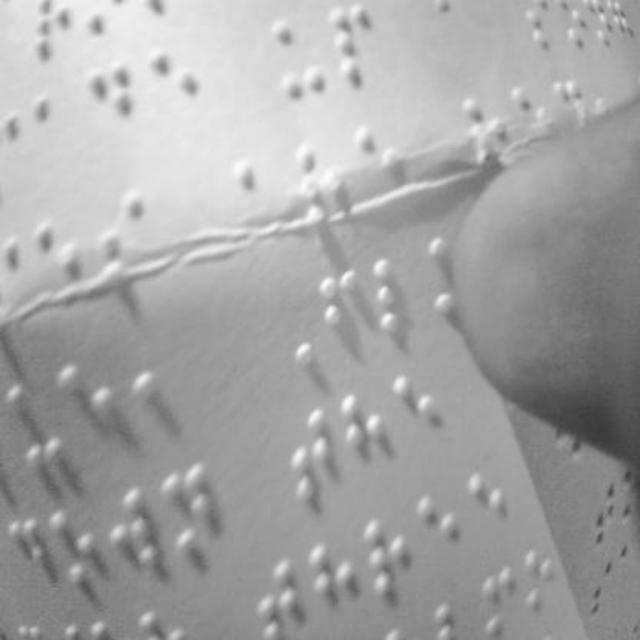braiile: (105, 484, 165, 588), (58, 352, 116, 456), (164, 458, 216, 566), (258, 536, 312, 640), (44, 500, 100, 598), (272, 12, 328, 110), (87, 58, 139, 160), (328, 3, 382, 101), (309, 535, 361, 635), (148, 43, 200, 143), (284, 406, 338, 502), (394, 371, 448, 467), (372, 250, 424, 348), (341, 388, 391, 484), (133, 342, 185, 431), (34, 85, 80, 185), (363, 516, 415, 604), (319, 263, 366, 359), (416, 492, 466, 578), (468, 468, 514, 558)
